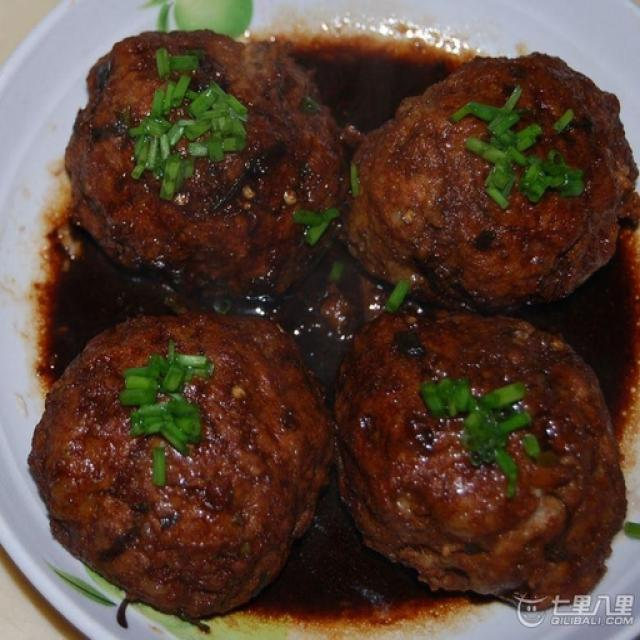猪肉菜式: (37, 18, 624, 594)
